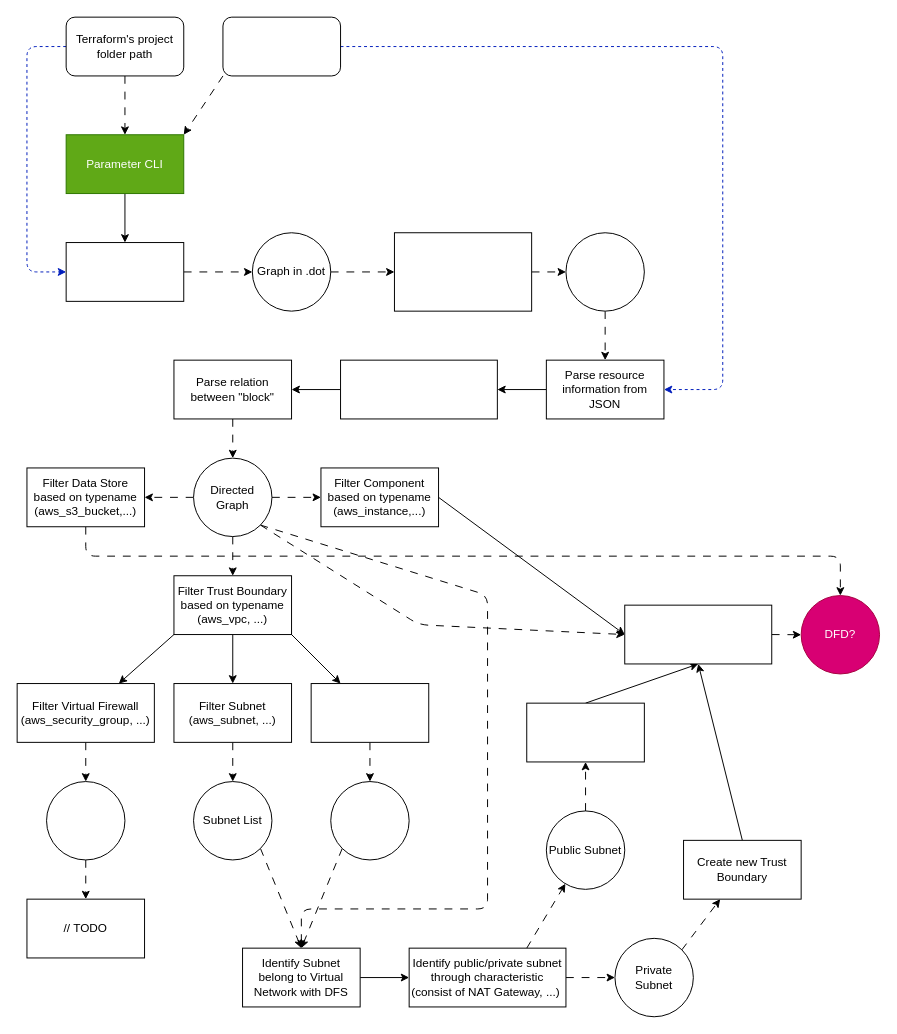
Image size: 897x1034. Some labels were removed from this diagram. Each missing label, with the centre of its shape:
Classify type of "block" (Variable/Resource/Output): the point at 418,389
Clean, Init and Run "terraform graph": the point at 124,271
Filter Virtual Network (aws_vpc, ...): the point at 369,712
Graph in JSON: the point at 604,271
Identify Component Belong to Subnet with DFS: the point at 698,634
List of provider (AWS, GCP, ...) or all: the point at 281,46
Reuse Parent's Trust Boundary: the point at 585,732
Run terraform-graph-beautifier to remove redundant resource and convert to JSON: the point at 462,271
Virtual Firewall List: the point at 85,820
Virtual Network List: the point at 369,820
